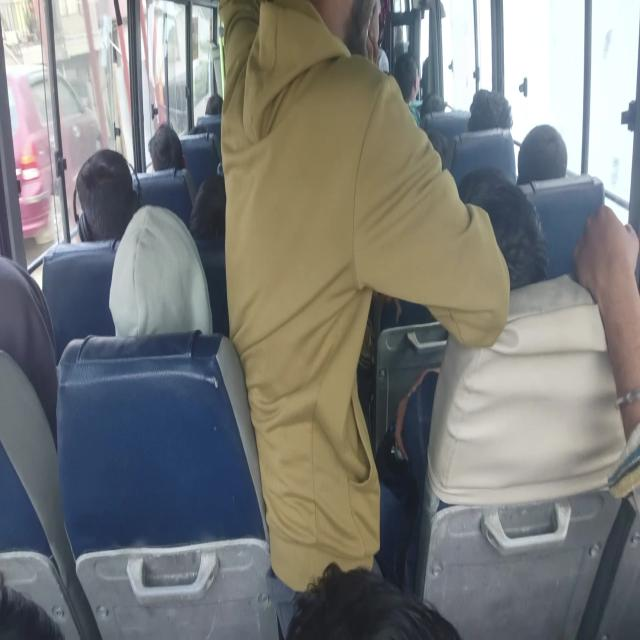person: (220, 0, 403, 385), (570, 197, 640, 577), (462, 175, 547, 314), (109, 216, 191, 359), (0, 266, 55, 446), (75, 148, 140, 251), (189, 172, 240, 245), (467, 82, 513, 136), (143, 127, 189, 172), (520, 130, 565, 175), (399, 61, 422, 102), (422, 92, 447, 126), (206, 94, 222, 112)
